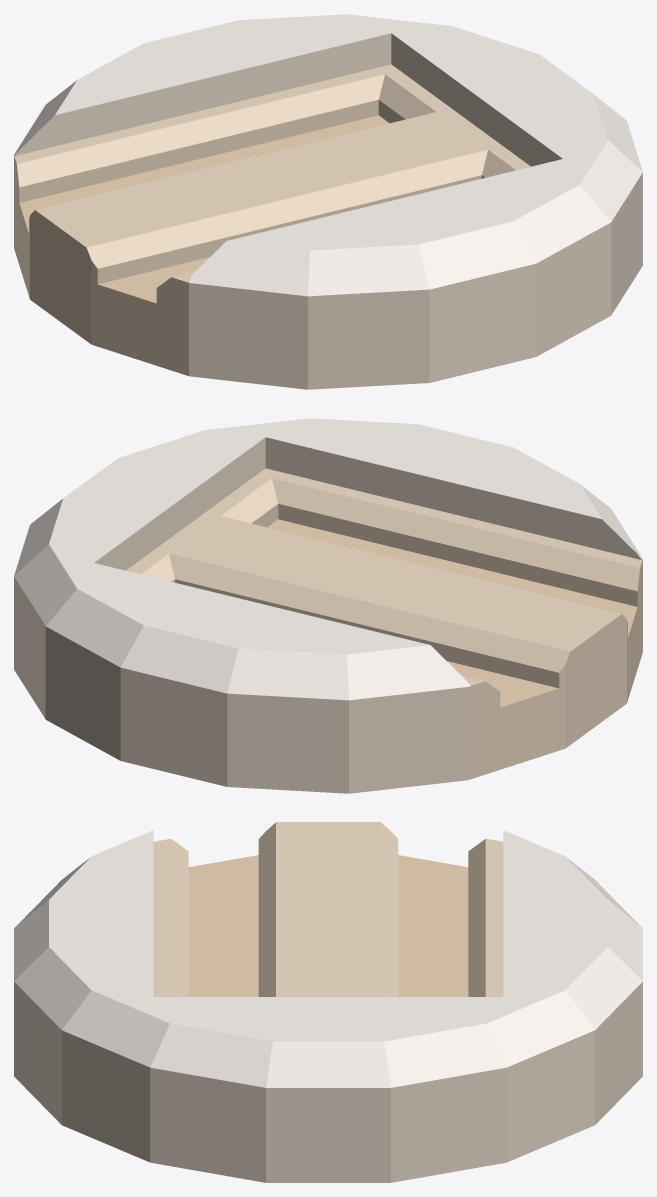
The model's file is Puzzle_Track_Rotating_Platform_End.glb.
The picture shows the model from 3 angles, top to bottom: view 1: azimuth 30°, elevation 25°; view 2: azimuth 150°, elevation 25°; view 3: azimuth 270°, elevation 25°; orthographic projection.
Visible parts, largest first — view 1: Puzzle_Track_Rotating_Platform_End; view 2: Puzzle_Track_Rotating_Platform_End; view 3: Puzzle_Track_Rotating_Platform_End.
Boxes of the visible parts, bbox=[...] form: Puzzle_Track_Rotating_Platform_End: bbox=[14, 14, 642, 389]; Puzzle_Track_Rotating_Platform_End: bbox=[14, 418, 642, 793]; Puzzle_Track_Rotating_Platform_End: bbox=[14, 822, 642, 1182].
Bounding box in the file's own units: 0.9 × 0.2 × 0.9.
